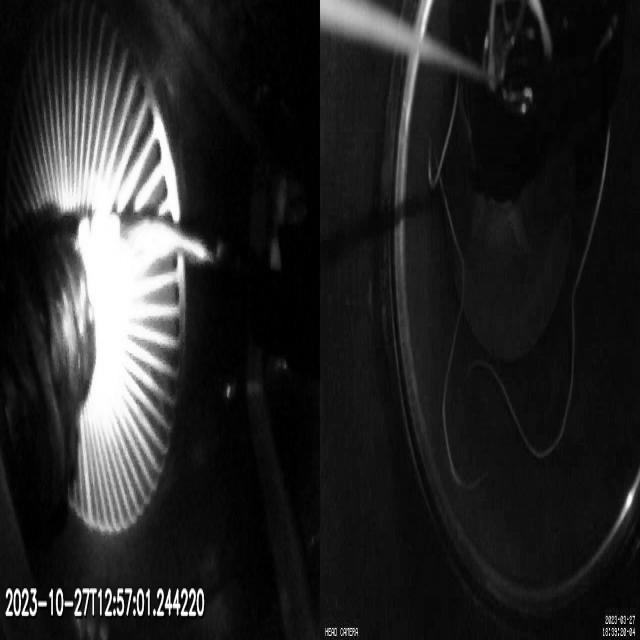white-dots: (78, 211, 120, 248)
